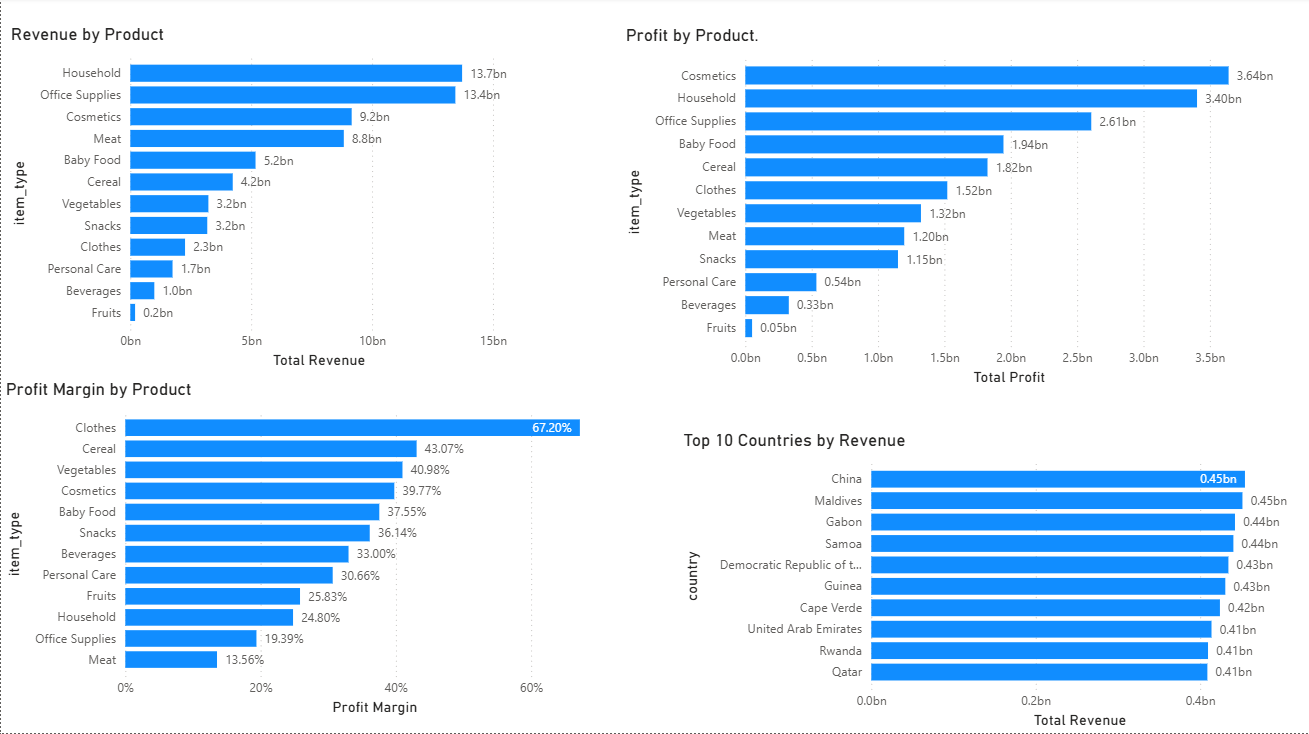

The dashboard page shown, as its layout file describes it:
{"tool":"powerbi","page":{"name":"Sales Analysis","canvas":[1280,720],"ordinal":1},"visuals":[{"type":"clusteredBarChart","title":"Revenue by Product","fields":{"Category":["retail_sales_analytics dim_product.item_type"],"Y":["retail_sales_analytics fact_sales.Total Revenue"]},"box":[5.5,26.1,634,358.1],"z":0},{"type":"clusteredBarChart","title":"Profit by Product.","fields":{"Y":["retail_sales_analytics fact_sales.Total Profit"],"Category":["retail_sales_analytics dim_product.item_type"]},"box":[639.5,26.1,625.7,358.1],"z":1},{"type":"clusteredBarChart","title":"Profit Margin by Product","fields":{"Category":["retail_sales_analytics dim_product.item_type"],"Y":["retail_sales_analytics fact_sales.Profit Margin"]},"box":[0,384.2,639.5,323.8],"z":2},{"type":"clusteredBarChart","title":"Top 10 Countries by Revenue","fields":{"Category":["retail_sales_analytics dim_geography.country"],"Y":["retail_sales_analytics fact_sales.Total Revenue"]},"box":[639.5,384.2,640.8,336.2],"z":3}]}

Visuals, with their boxes in screenshot pixels (x1, y1, x2, y2), scaled from the page's 1280x720 canvas onto the 1309x734 screenshot:
"Revenue by Product" clusteredBarChart: 6,27,654,392
"Profit by Product." clusteredBarChart: 654,27,1294,392
"Profit Margin by Product" clusteredBarChart: 0,392,654,722
"Top 10 Countries by Revenue" clusteredBarChart: 654,392,1308,733
